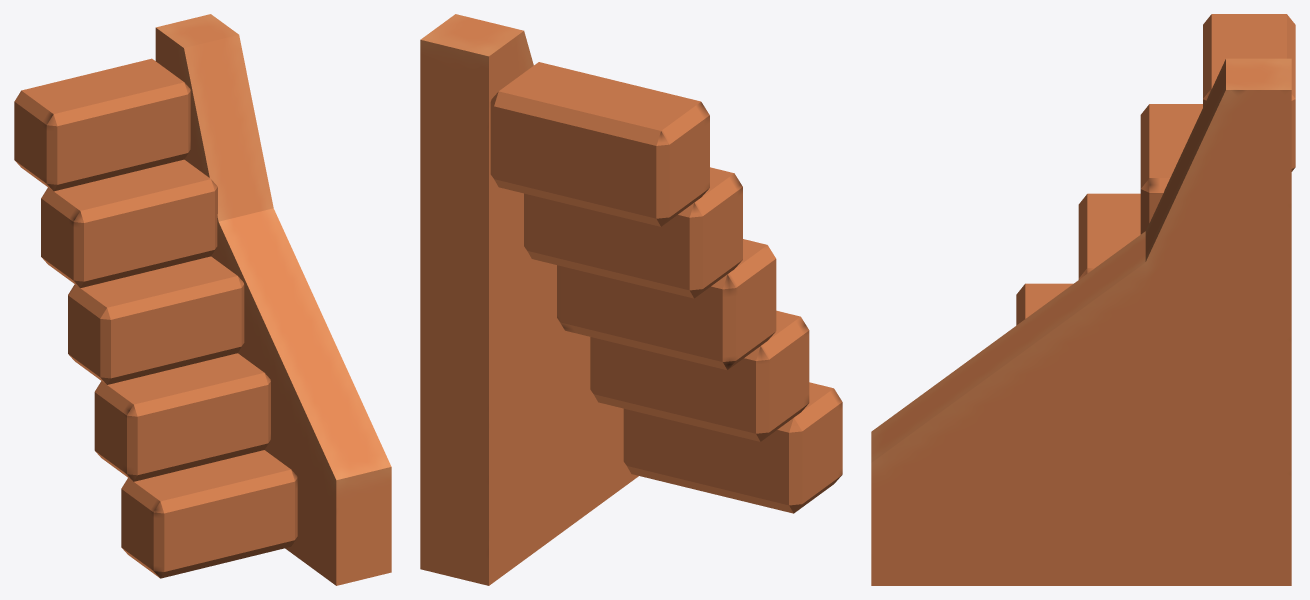
Rendered from Stairs_decoration.fbx.
The picture shows the model from 3 angles, left to right: view 1: azimuth 30°, elevation 25°; view 2: azimuth 150°, elevation 25°; view 3: azimuth 270°, elevation 25°; orthographic projection. The views are drawn at different scales.
Visible parts, largest first — view 1: Stairs_decoration; view 2: Stairs_decoration; view 3: Stairs_decoration.
Part boxes in pixels (x1,y1,x2,y2): Stairs_decoration: [14, 14, 391, 585]; Stairs_decoration: [420, 14, 842, 585]; Stairs_decoration: [871, 14, 1295, 585].
Size of the model in its own units: 235 by 483 by 374.
